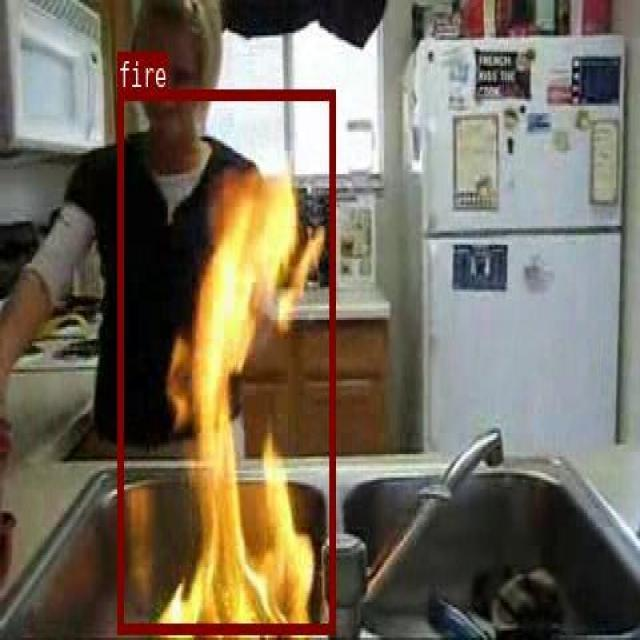fire: (117, 87, 334, 633)
